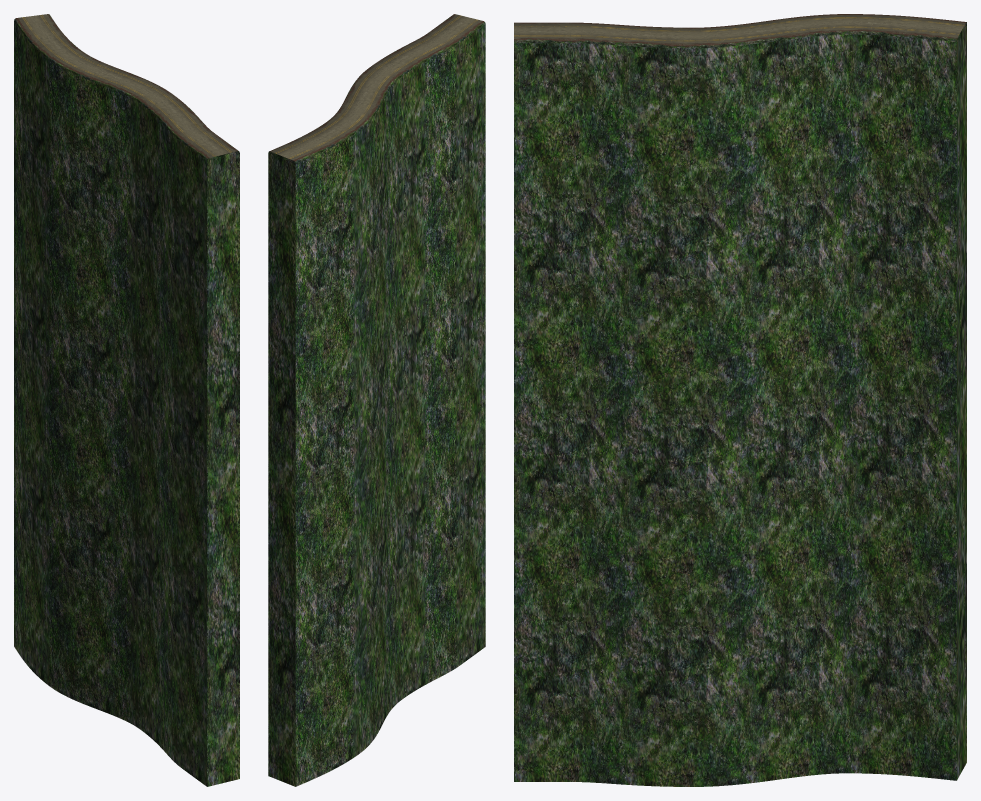
Rendered from level 14 start ramp.fbx.
3 views of the same model, side by side, from view 1: azimuth 30°, elevation 25°; view 2: azimuth 150°, elevation 25°; view 3: azimuth 270°, elevation 25° (orthographic). The views are drawn at different scales.
Parts seen in each view (by area): view 1: Level 14 start ramp; view 2: Level 14 start ramp; view 3: Level 14 start ramp.
Part boxes in pixels (box(x1,y1,x2,y2)): Level 14 start ramp: box(14, 14, 239, 786); Level 14 start ramp: box(268, 14, 485, 786); Level 14 start ramp: box(514, 14, 966, 786).
Size of the model in its own units: 708 by 7538 by 4174.
